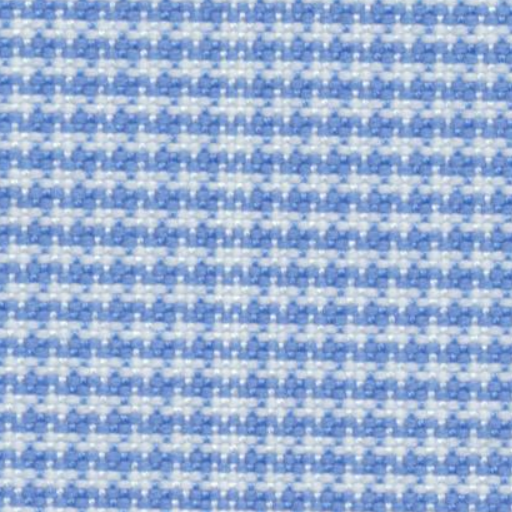TuoSha: (198, 7, 276, 503)
